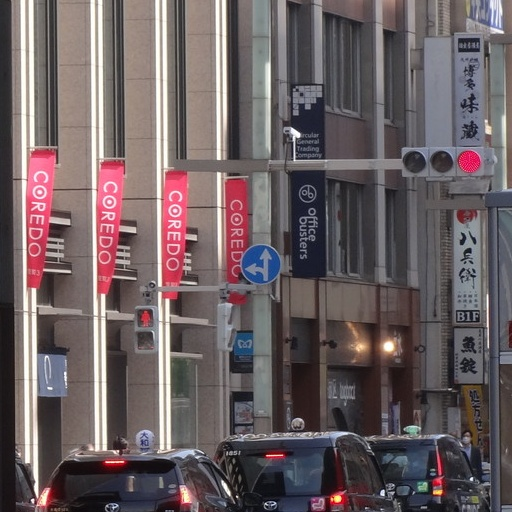Pedestrian_Signal_Red: (130, 302, 159, 355)
Traffic_Signal_Red: (392, 141, 505, 181)
